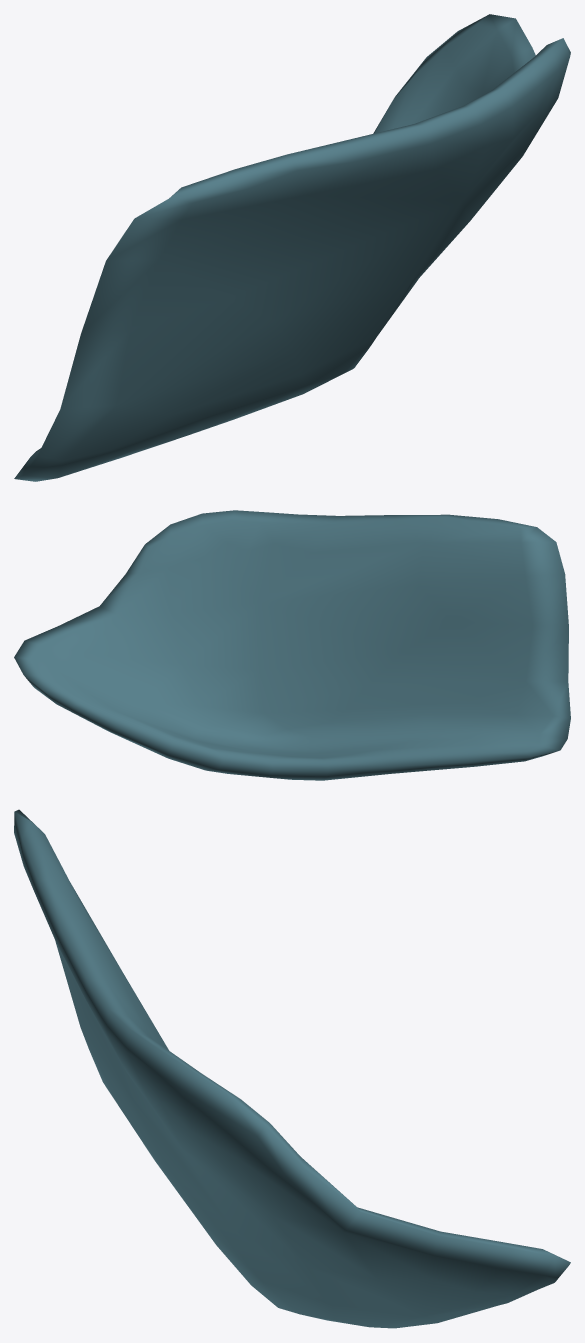
Rendered from Sternohyoid_hyoid_bone_left.glb.
3 renders of one model, top to bottom at view 1: azimuth 30°, elevation 25°; view 2: azimuth 150°, elevation 25°; view 3: azimuth 270°, elevation 25°, orthographic. The views are drawn at different scales.
Visible parts, largest first — view 1: Sternohyoid_muscle_on_hyoid_bone.l_Generated_Mesh_From_X3D.9; view 2: Sternohyoid_muscle_on_hyoid_bone.l_Generated_Mesh_From_X3D.9; view 3: Sternohyoid_muscle_on_hyoid_bone.l_Generated_Mesh_From_X3D.9.
Boxes of the visible parts, left/top/right/bottom form: Sternohyoid_muscle_on_hyoid_bone.l_Generated_Mesh_From_X3D.9: left=14, top=14, right=570, bottom=481; Sternohyoid_muscle_on_hyoid_bone.l_Generated_Mesh_From_X3D.9: left=14, top=510, right=570, bottom=780; Sternohyoid_muscle_on_hyoid_bone.l_Generated_Mesh_From_X3D.9: left=14, top=809, right=570, bottom=1328.
Size of the model in its own units: 0.00957 by 0.00475 by 0.00669.
